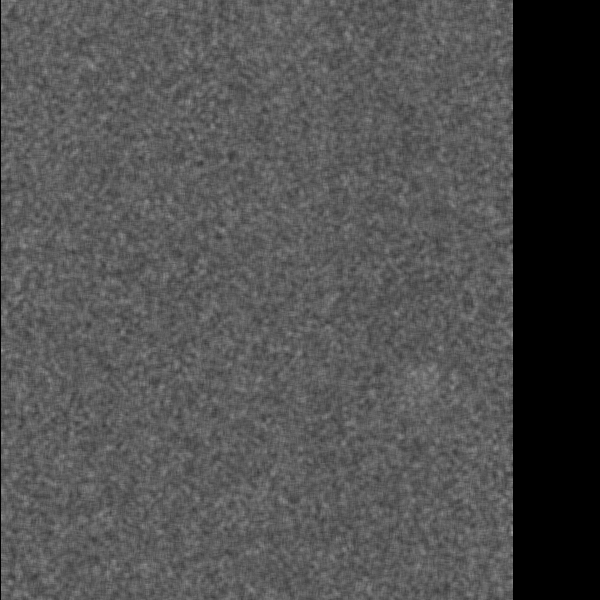spark: (418, 584, 458, 600)
